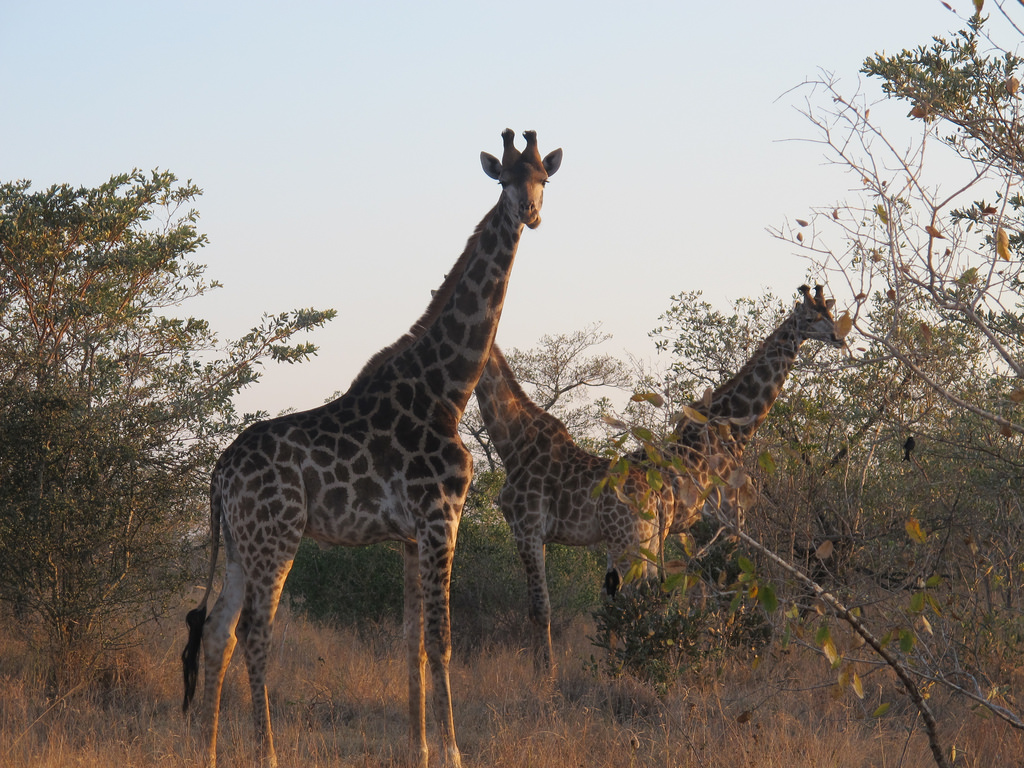giraffe: (173, 127, 562, 729), (628, 284, 853, 613), (479, 353, 676, 687)
